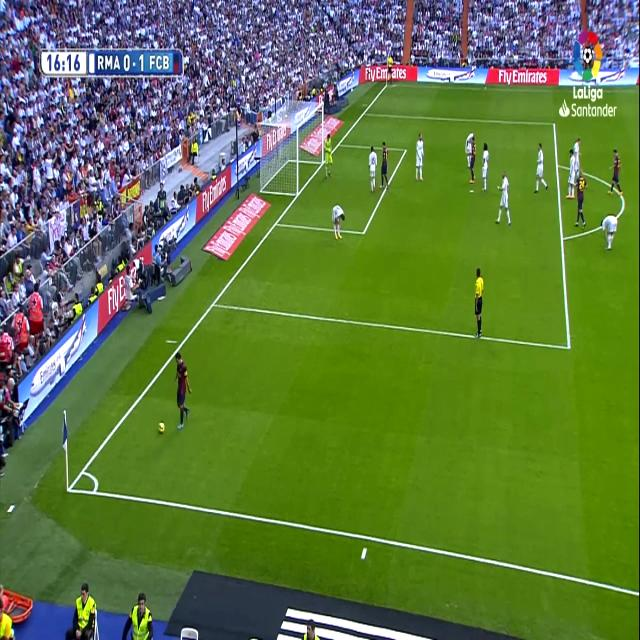bigarea_bottom_inner: (562, 331, 574, 359)
bigarea_top_outter: (361, 107, 367, 117)
bottom_arc_area_intersection: (209, 294, 217, 312)
corner: (385, 80, 391, 88)
smallarea_bottom_outter: (272, 214, 280, 231)
smallarea_top_inner: (402, 144, 408, 156)
smallarea_top_outter: (336, 136, 342, 150)
